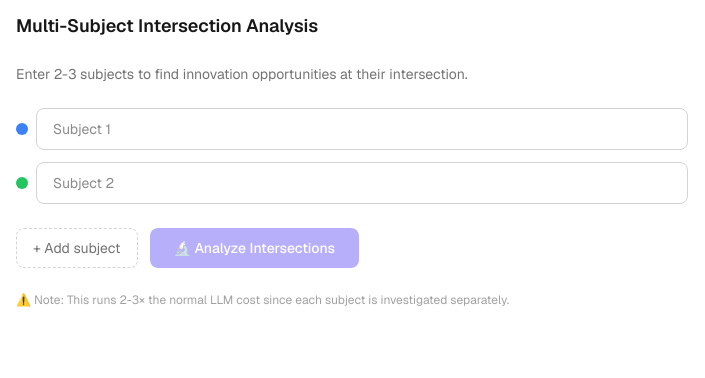
Test case: IntersectionAnalysis › adds a third subject field
What coordinates should you click on to do the following:
click the button "+ Add subject"
I would click on:
 (77, 248)
Its box is [16,228,138,268].
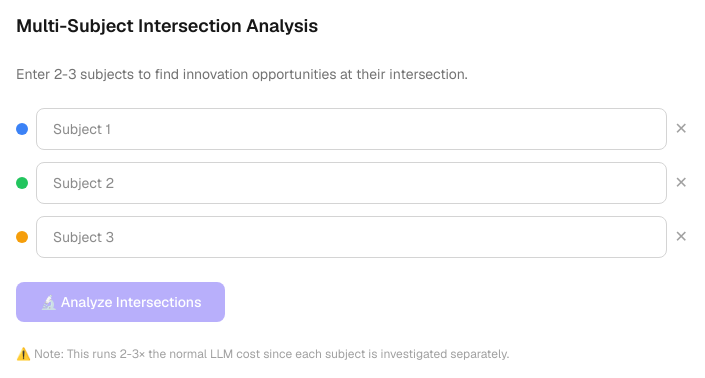
Result: the number of fields with placeholder "Subject 1" is 3 at [36,108,667,150]; [36,162,667,204]; [36,216,667,258]
